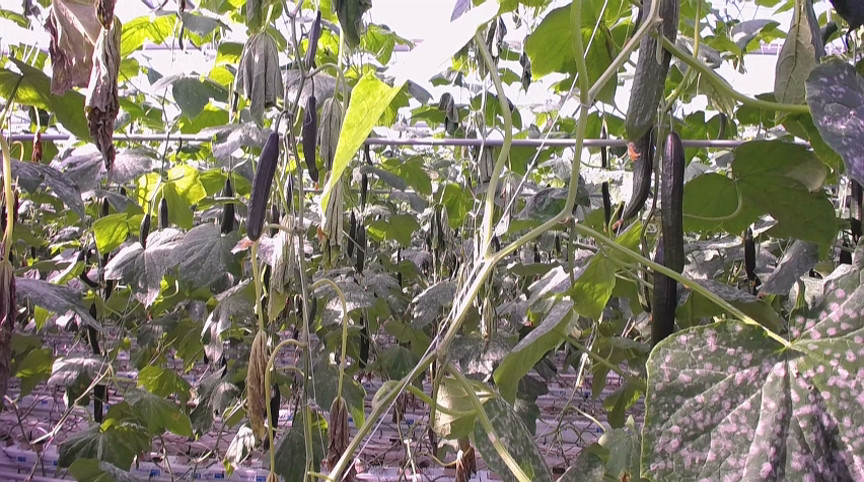cucumber: (626, 1, 678, 142), (248, 132, 282, 240), (651, 243, 677, 344), (667, 132, 685, 274), (301, 97, 319, 182), (136, 216, 151, 253), (156, 197, 170, 230)
